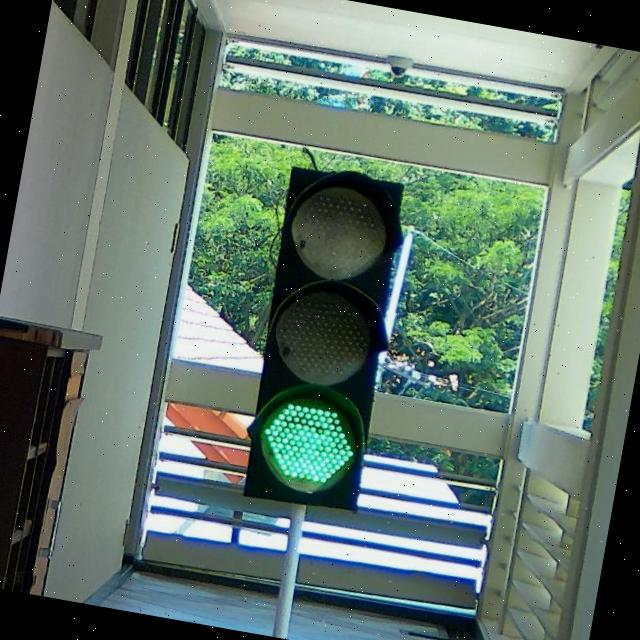green_light: (235, 166, 418, 516)
